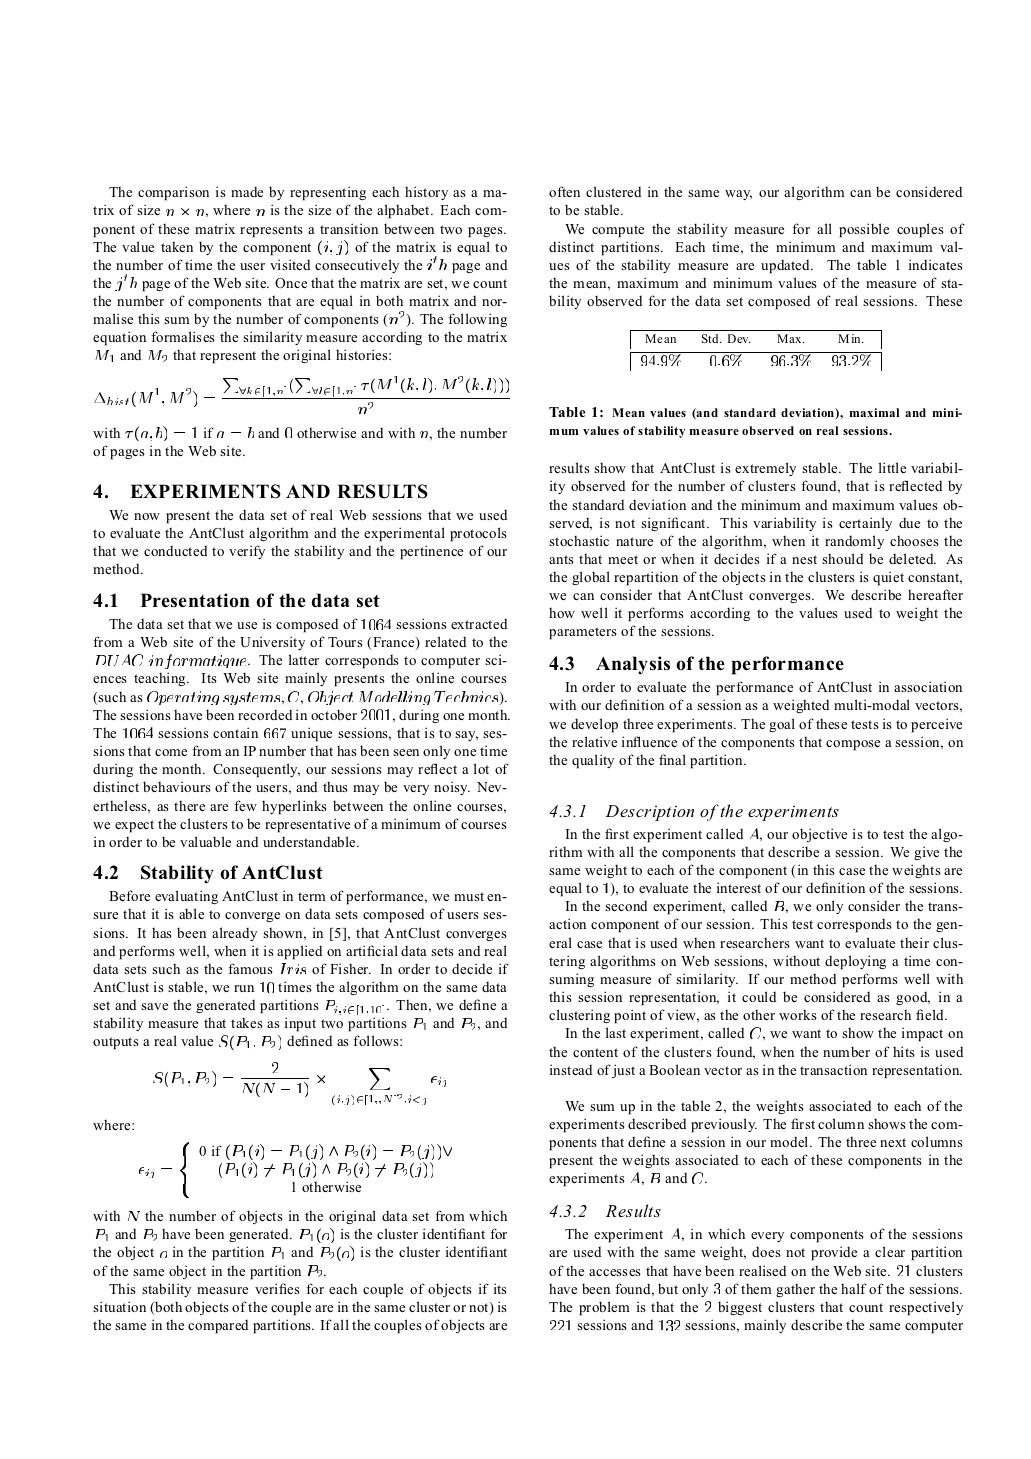Table: (630, 330, 881, 370)
formula: (139, 1141, 451, 1198), (94, 375, 509, 414), (153, 1061, 445, 1105)
